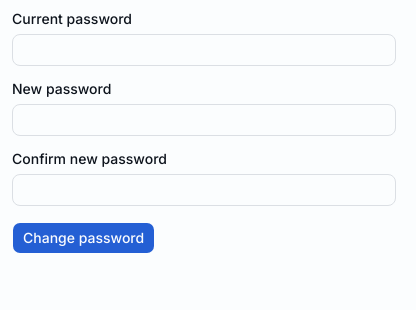
Test: PasswordForm › refuses two new passwords that disagree without asking anyone
In the password field labelled "Current password": (204, 50) x1=12 y1=34 x2=396 y2=66, type "old-password"
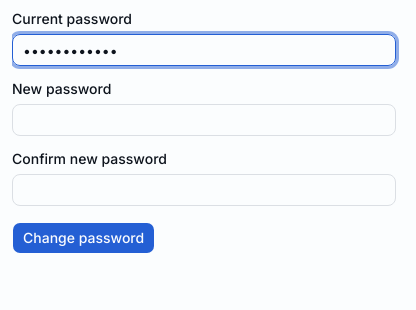
In the password field labelled "New password": (204, 120) x1=12 y1=104 x2=396 y2=136, type "new-password"
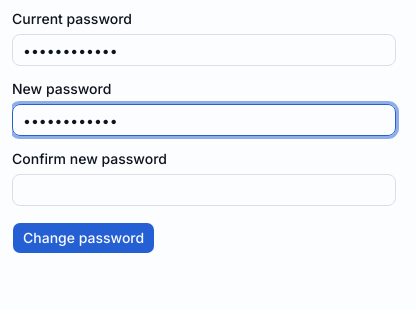
In the password field labelled "Confirm new password": (204, 190) x1=12 y1=174 x2=396 y2=206, type "different-password"
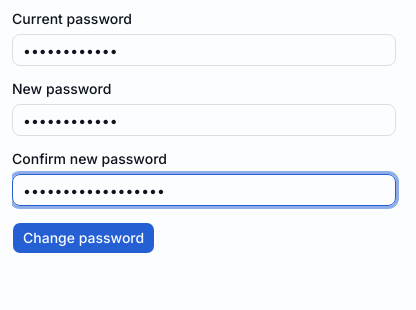
Click the button "Change password": (84, 238) x1=12 y1=222 x2=155 y2=254
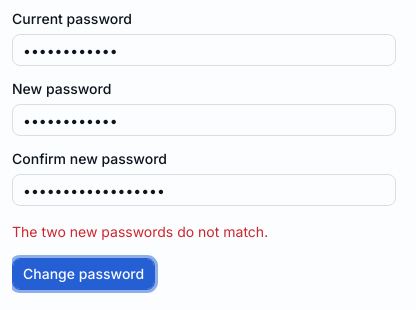
Check: the message reads "The two new passwords do not match.", box x1=12 y1=223 x2=268 y2=240
